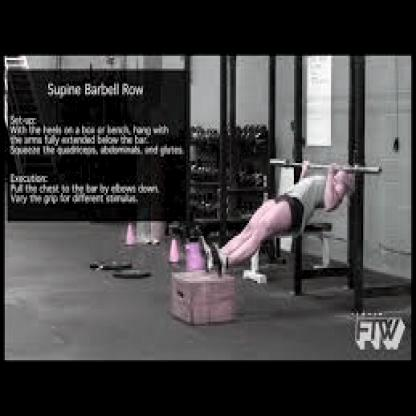Barbell: (375, 161, 386, 179)
